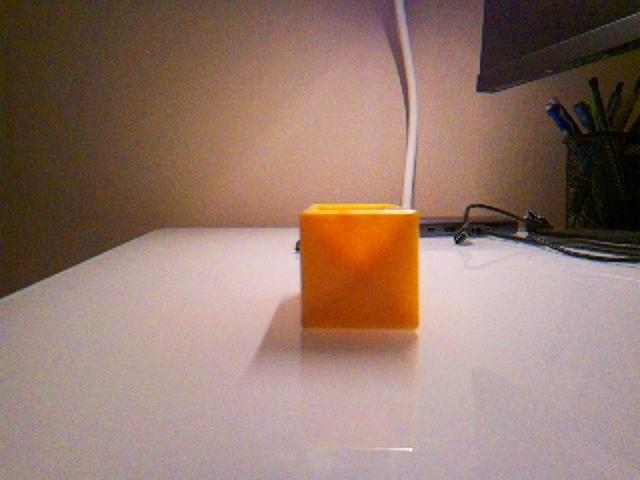yellow: (298, 201, 421, 331)
